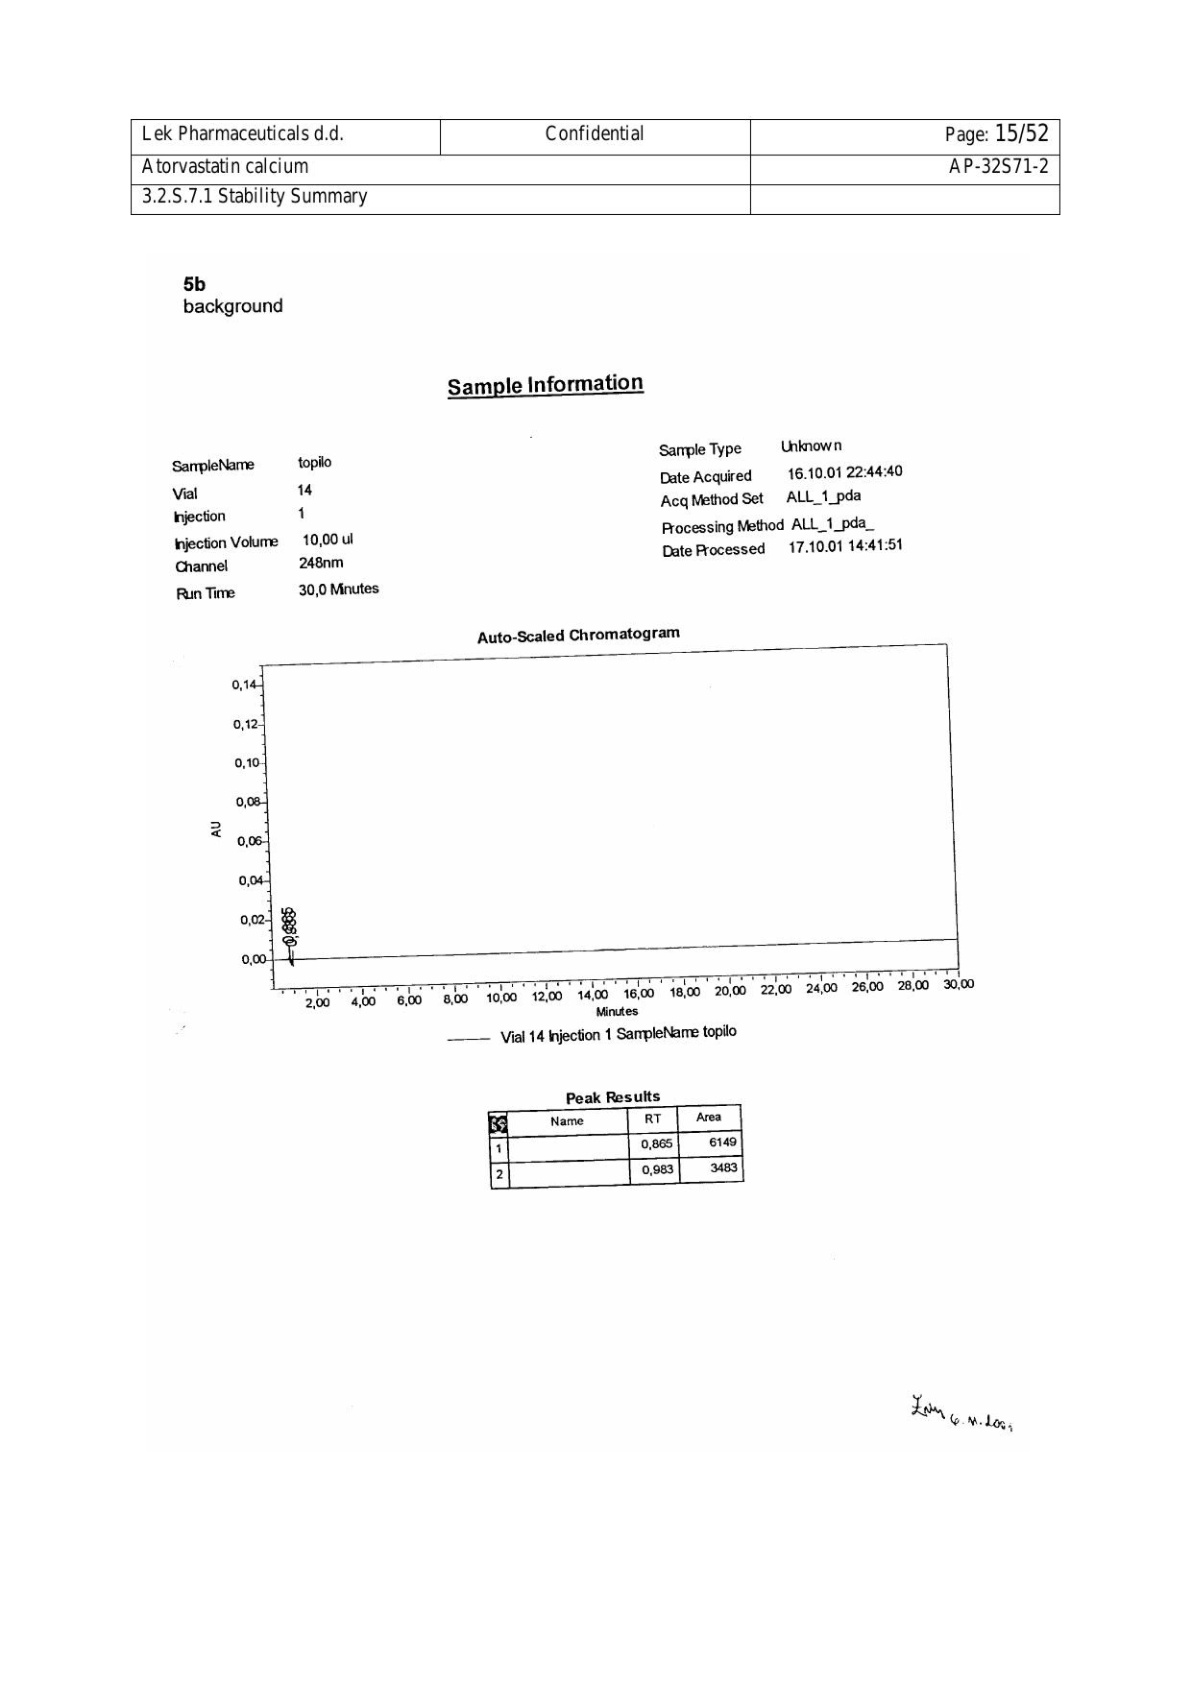full_lined: (488, 1102, 744, 1191)
merged_cells: (130, 117, 1060, 217)
nolines: (164, 432, 908, 605)
